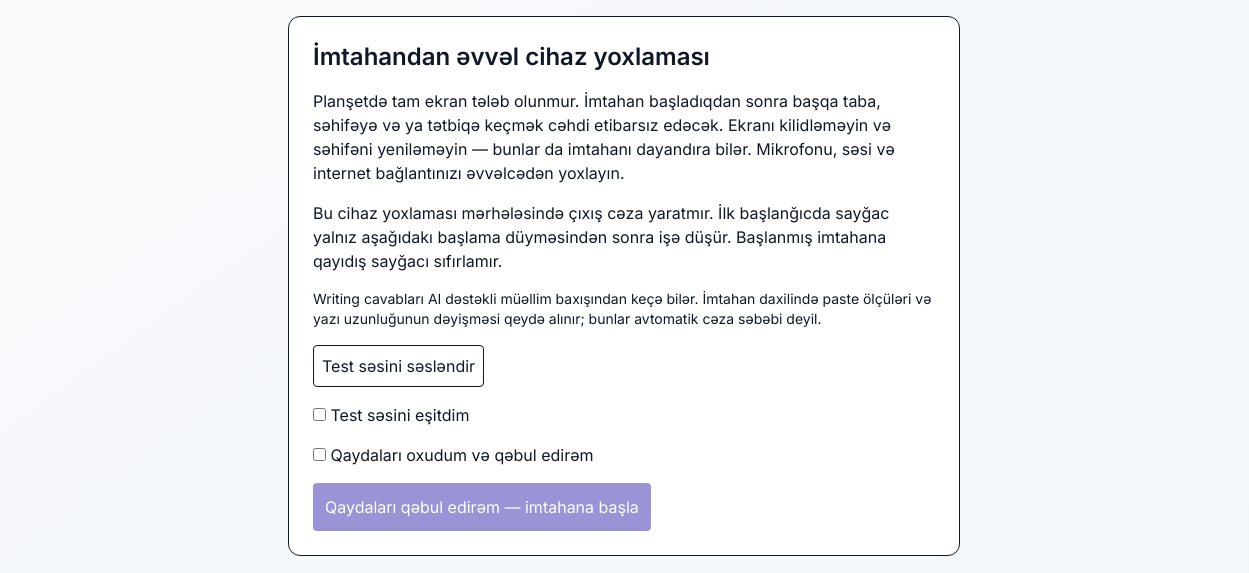
Test: tablet navigation invalidates and offline evidence is persisted
Click the checkbox labelled "Test səsini eşitdim".
click(320, 414)  # box [313,408,326,421]
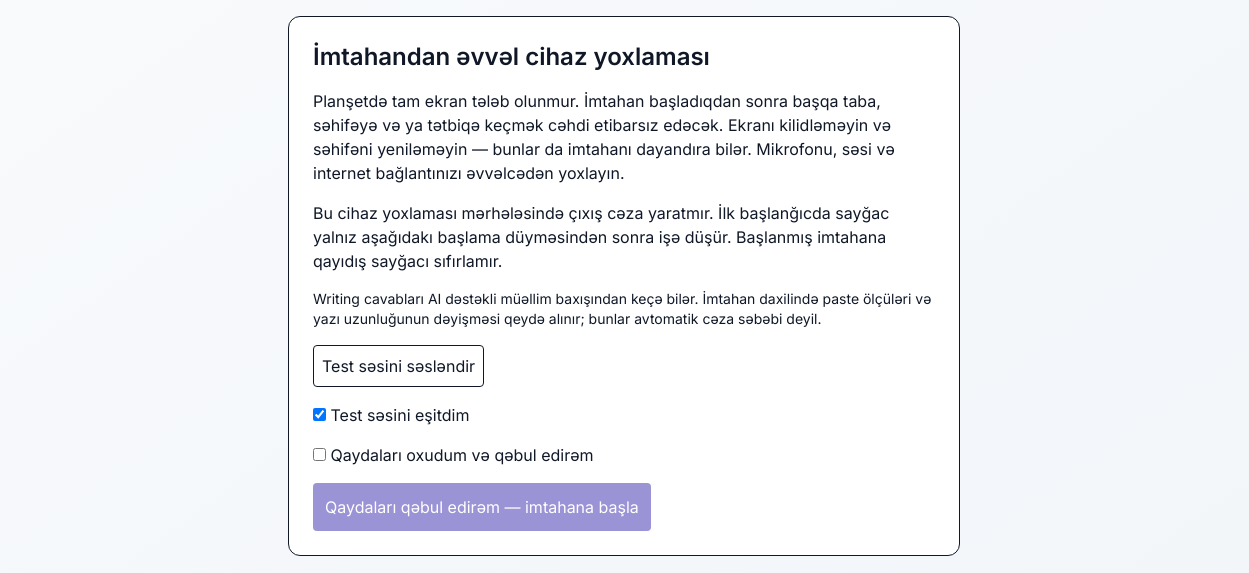
Click the checkbox labelled "Qaydaları oxudum və qəbul edirəm".
click(320, 454)  # box [313,448,326,461]
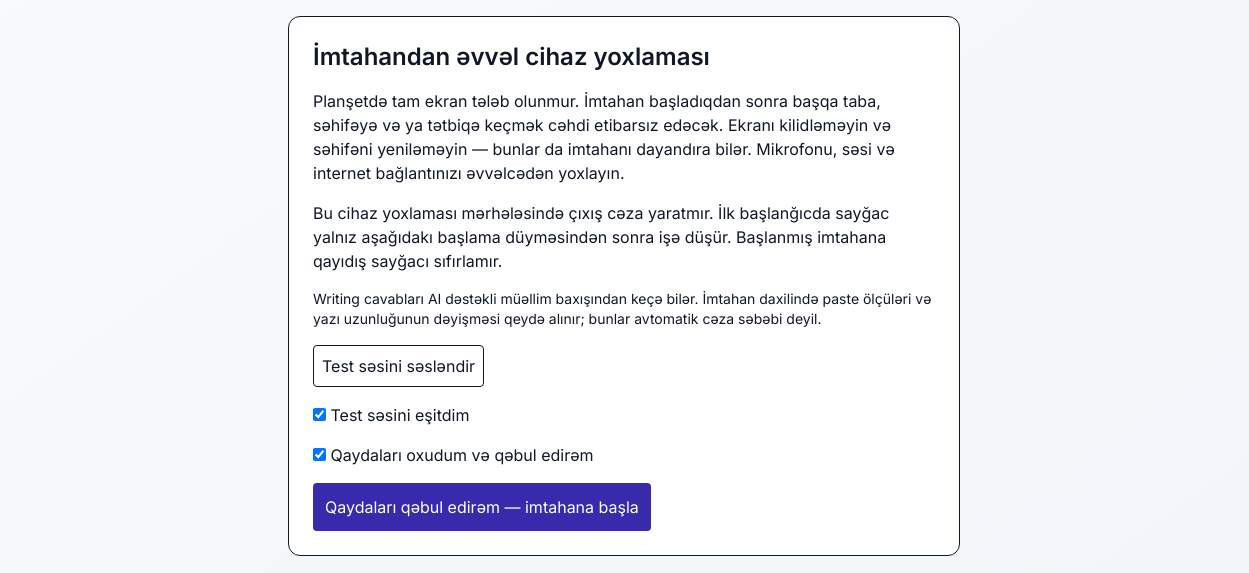
Click the button "Qaydaları qəbul edirəm — imtahana başla".
click(482, 507)  # box [313,483,651,531]
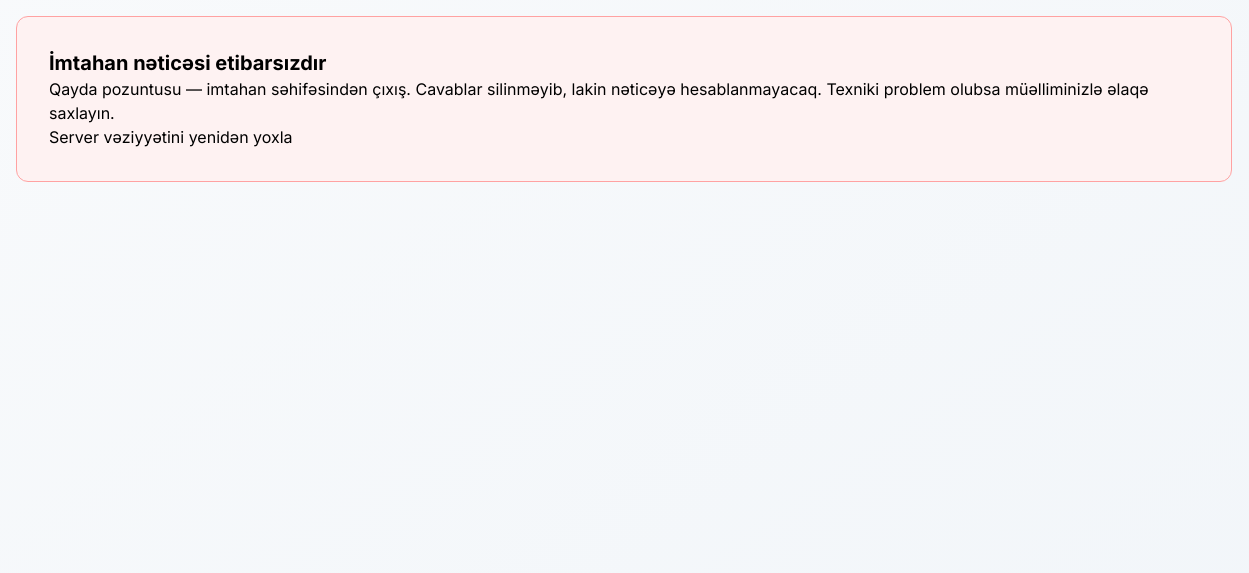
Check: the text "İmtahan nəticəsi etibarsızdır" is shown, box [49,51,326,75]
